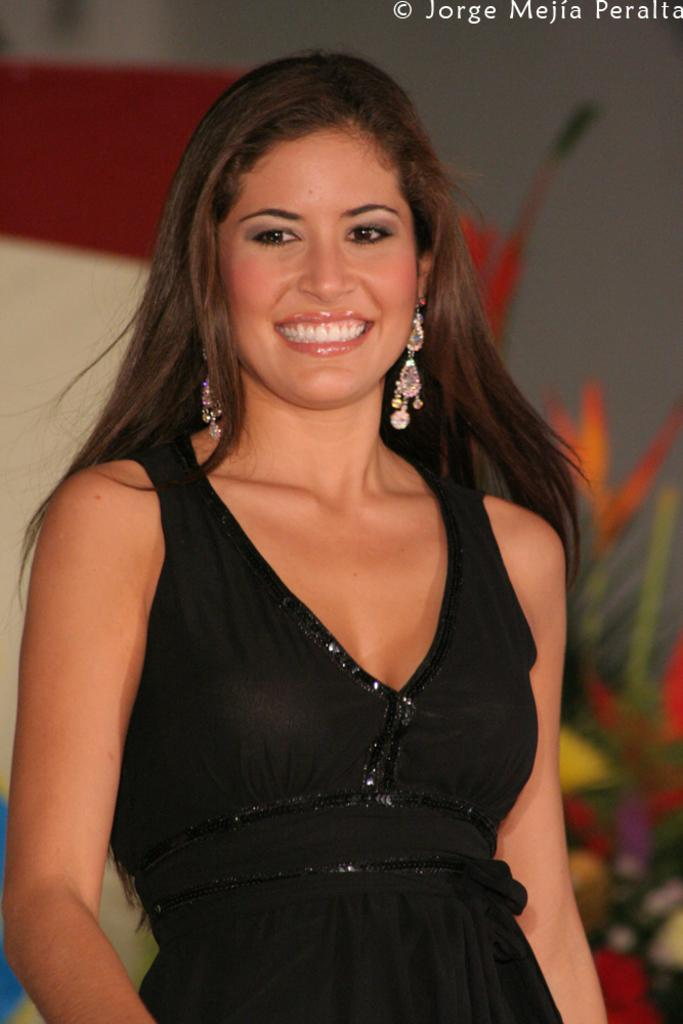Sem Máscara: (216, 128, 415, 403)
